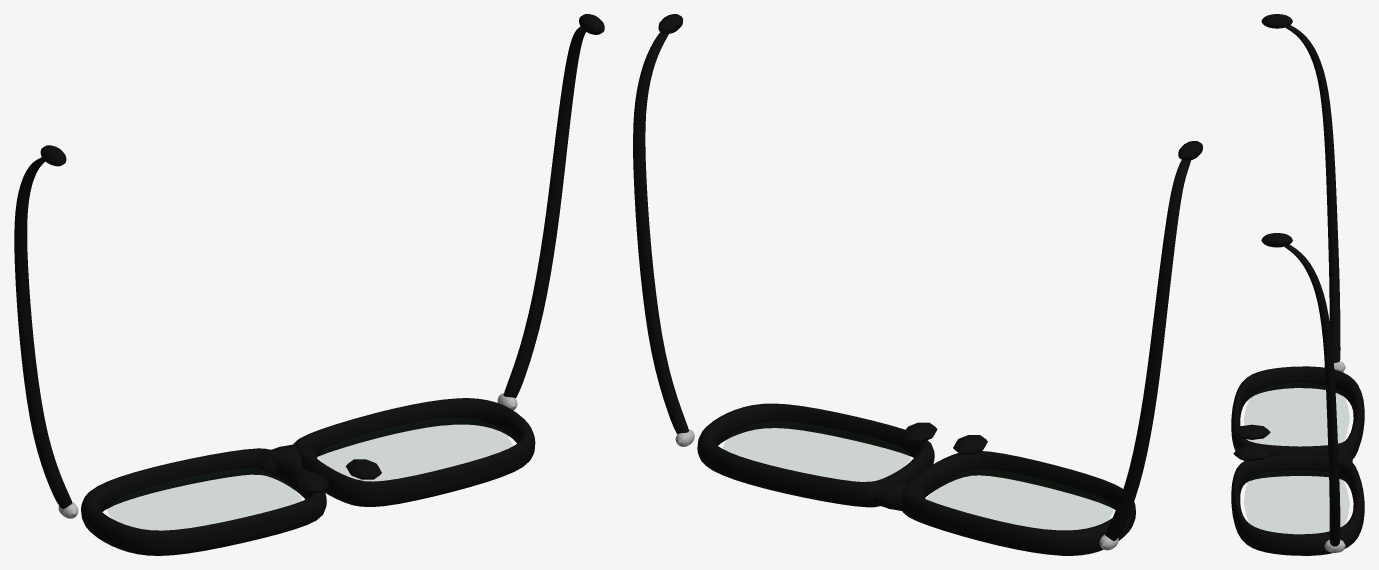
File: wayfarer_v2.glb
3 views of the same model, side by side, from view 1: azimuth 30°, elevation 25°; view 2: azimuth 150°, elevation 25°; view 3: azimuth 270°, elevation 25° (orthographic). The views are drawn at different scales.
Parts seen in each view (by area): view 1: Rim_R, Rim_L, Lens_L, Lens_R, Arm_R, Arm_L; view 2: Rim_R, Rim_L, Lens_R, Lens_L, Arm_R, Arm_L, Bridge; view 3: Rim_R, Lens_R, Lens_L, Rim_L, Arm_L, Arm_R, Pad_L, Pad_R, Tip_L, Tip_R, Bridge, Hinge_R.
Boxes of the visible parts, x1,y1,x2,y2 form: Rim_R: (293,398,535,506); Rim_L: (81,448,326,555); Lens_L: (108,469,301,529); Lens_R: (319,419,511,480); Arm_R: (503,26,585,398); Arm_L: (14,157,72,508); Rim_R: (697,403,934,507); Rim_L: (902,451,1135,555); Lens_R: (723,422,909,481); Lens_L: (927,469,1113,529); Arm_R: (633,32,688,433); Arm_L: (1105,160,1190,540); Bridge: (873,480,925,510); Rim_R: (1231,454,1364,555); Lens_R: (1244,471,1349,533); Lens_L: (1244,383,1349,445); Rim_L: (1231,366,1364,460); Arm_L: (1285,25,1340,362); Arm_R: (1284,244,1340,546); Pad_L: (1233,424,1270,439); Pad_R: (1233,446,1270,460); Tip_L: (1261,14,1292,28); Tip_R: (1261,233,1292,247); Bridge: (1319,448,1352,475); Hinge_R: (1324,539,1345,552).
Size of the model in its own units: 0.2141 by 0.1524 by 0.0531.
